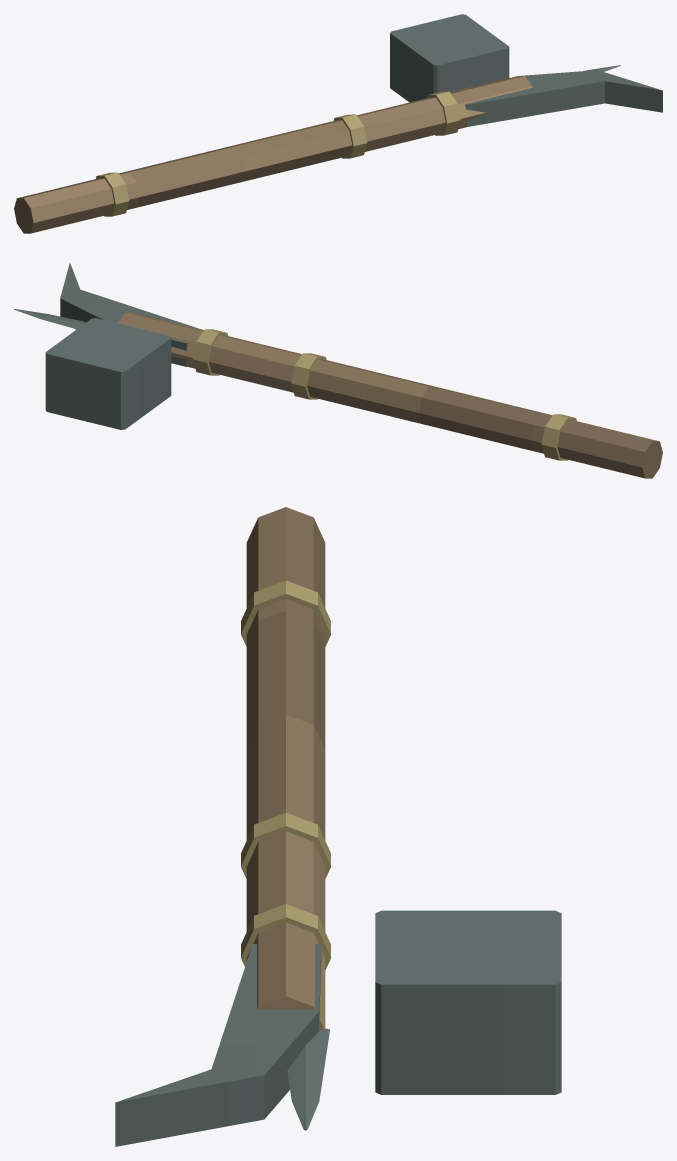
File: weapon-war-hammer.glb
3 views of the same model, one above another, from view 1: azimuth 30°, elevation 25°; view 2: azimuth 150°, elevation 25°; view 3: azimuth 270°, elevation 25° (orthographic). The views are drawn at different scales.
Parts seen in each view (by area): view 1: weapon-war-hammer/eight-sided-long-shaft, weapon-war-hammer/square-hammer-face, weapon-war-hammer/hooked-rear-pick, weapon-war-hammer/shaft-metal-band-0.08, weapon-war-hammer/shaft-metal-band--0.2, weapon-war-hammer/shaft-metal-band-0.19; view 2: weapon-war-hammer/eight-sided-long-shaft, weapon-war-hammer/square-hammer-face, weapon-war-hammer/hooked-rear-pick, weapon-war-hammer/shaft-metal-band-0.08, weapon-war-hammer/shaft-metal-band-0.19, weapon-war-hammer/shaft-metal-band--0.2, weapon-war-hammer/small-top-spike; view 3: weapon-war-hammer/square-hammer-face, weapon-war-hammer/eight-sided-long-shaft, weapon-war-hammer/hooked-rear-pick, weapon-war-hammer/small-top-spike, weapon-war-hammer/shaft-metal-band--0.2, weapon-war-hammer/shaft-metal-band-0.08, weapon-war-hammer/shaft-metal-band-0.19.
Boxes of the visible parts, <box> form: weapon-war-hammer/eight-sided-long-shaft: <box>14,76,532,233</box>; weapon-war-hammer/square-hammer-face: <box>390,14,509,102</box>; weapon-war-hammer/hooked-rear-pick: <box>450,70,662,126</box>; weapon-war-hammer/shaft-metal-band-0.08: <box>333,114,367,158</box>; weapon-war-hammer/shaft-metal-band--0.2: <box>96,172,129,216</box>; weapon-war-hammer/shaft-metal-band-0.19: <box>427,91,460,135</box>; weapon-war-hammer/eight-sided-long-shaft: <box>118,312,662,478</box>; weapon-war-hammer/square-hammer-face: <box>45,318,171,429</box>; weapon-war-hammer/hooked-rear-pick: <box>60,263,201,366</box>; weapon-war-hammer/shaft-metal-band-0.08: <box>291,353,326,399</box>; weapon-war-hammer/shaft-metal-band-0.19: <box>193,329,228,375</box>; weapon-war-hammer/shaft-metal-band--0.2: <box>541,414,576,460</box>; weapon-war-hammer/small-top-spike: <box>14,309,85,329</box>; weapon-war-hammer/square-hammer-face: <box>375,910,561,1094</box>; weapon-war-hammer/eight-sided-long-shaft: <box>246,507,325,1030</box>; weapon-war-hammer/hooked-rear-pick: <box>115,944,321,1146</box>; weapon-war-hammer/small-top-spike: <box>287,1028,329,1130</box>; weapon-war-hammer/shaft-metal-band--0.2: <box>241,580,330,646</box>; weapon-war-hammer/shaft-metal-band-0.08: <box>241,813,330,878</box>; weapon-war-hammer/shaft-metal-band-0.19: <box>241,904,330,969</box>.
Size of the model in its own units: 0.708 by 0.062 by 0.2275.
Materials: 3 (3 with a texture image).
